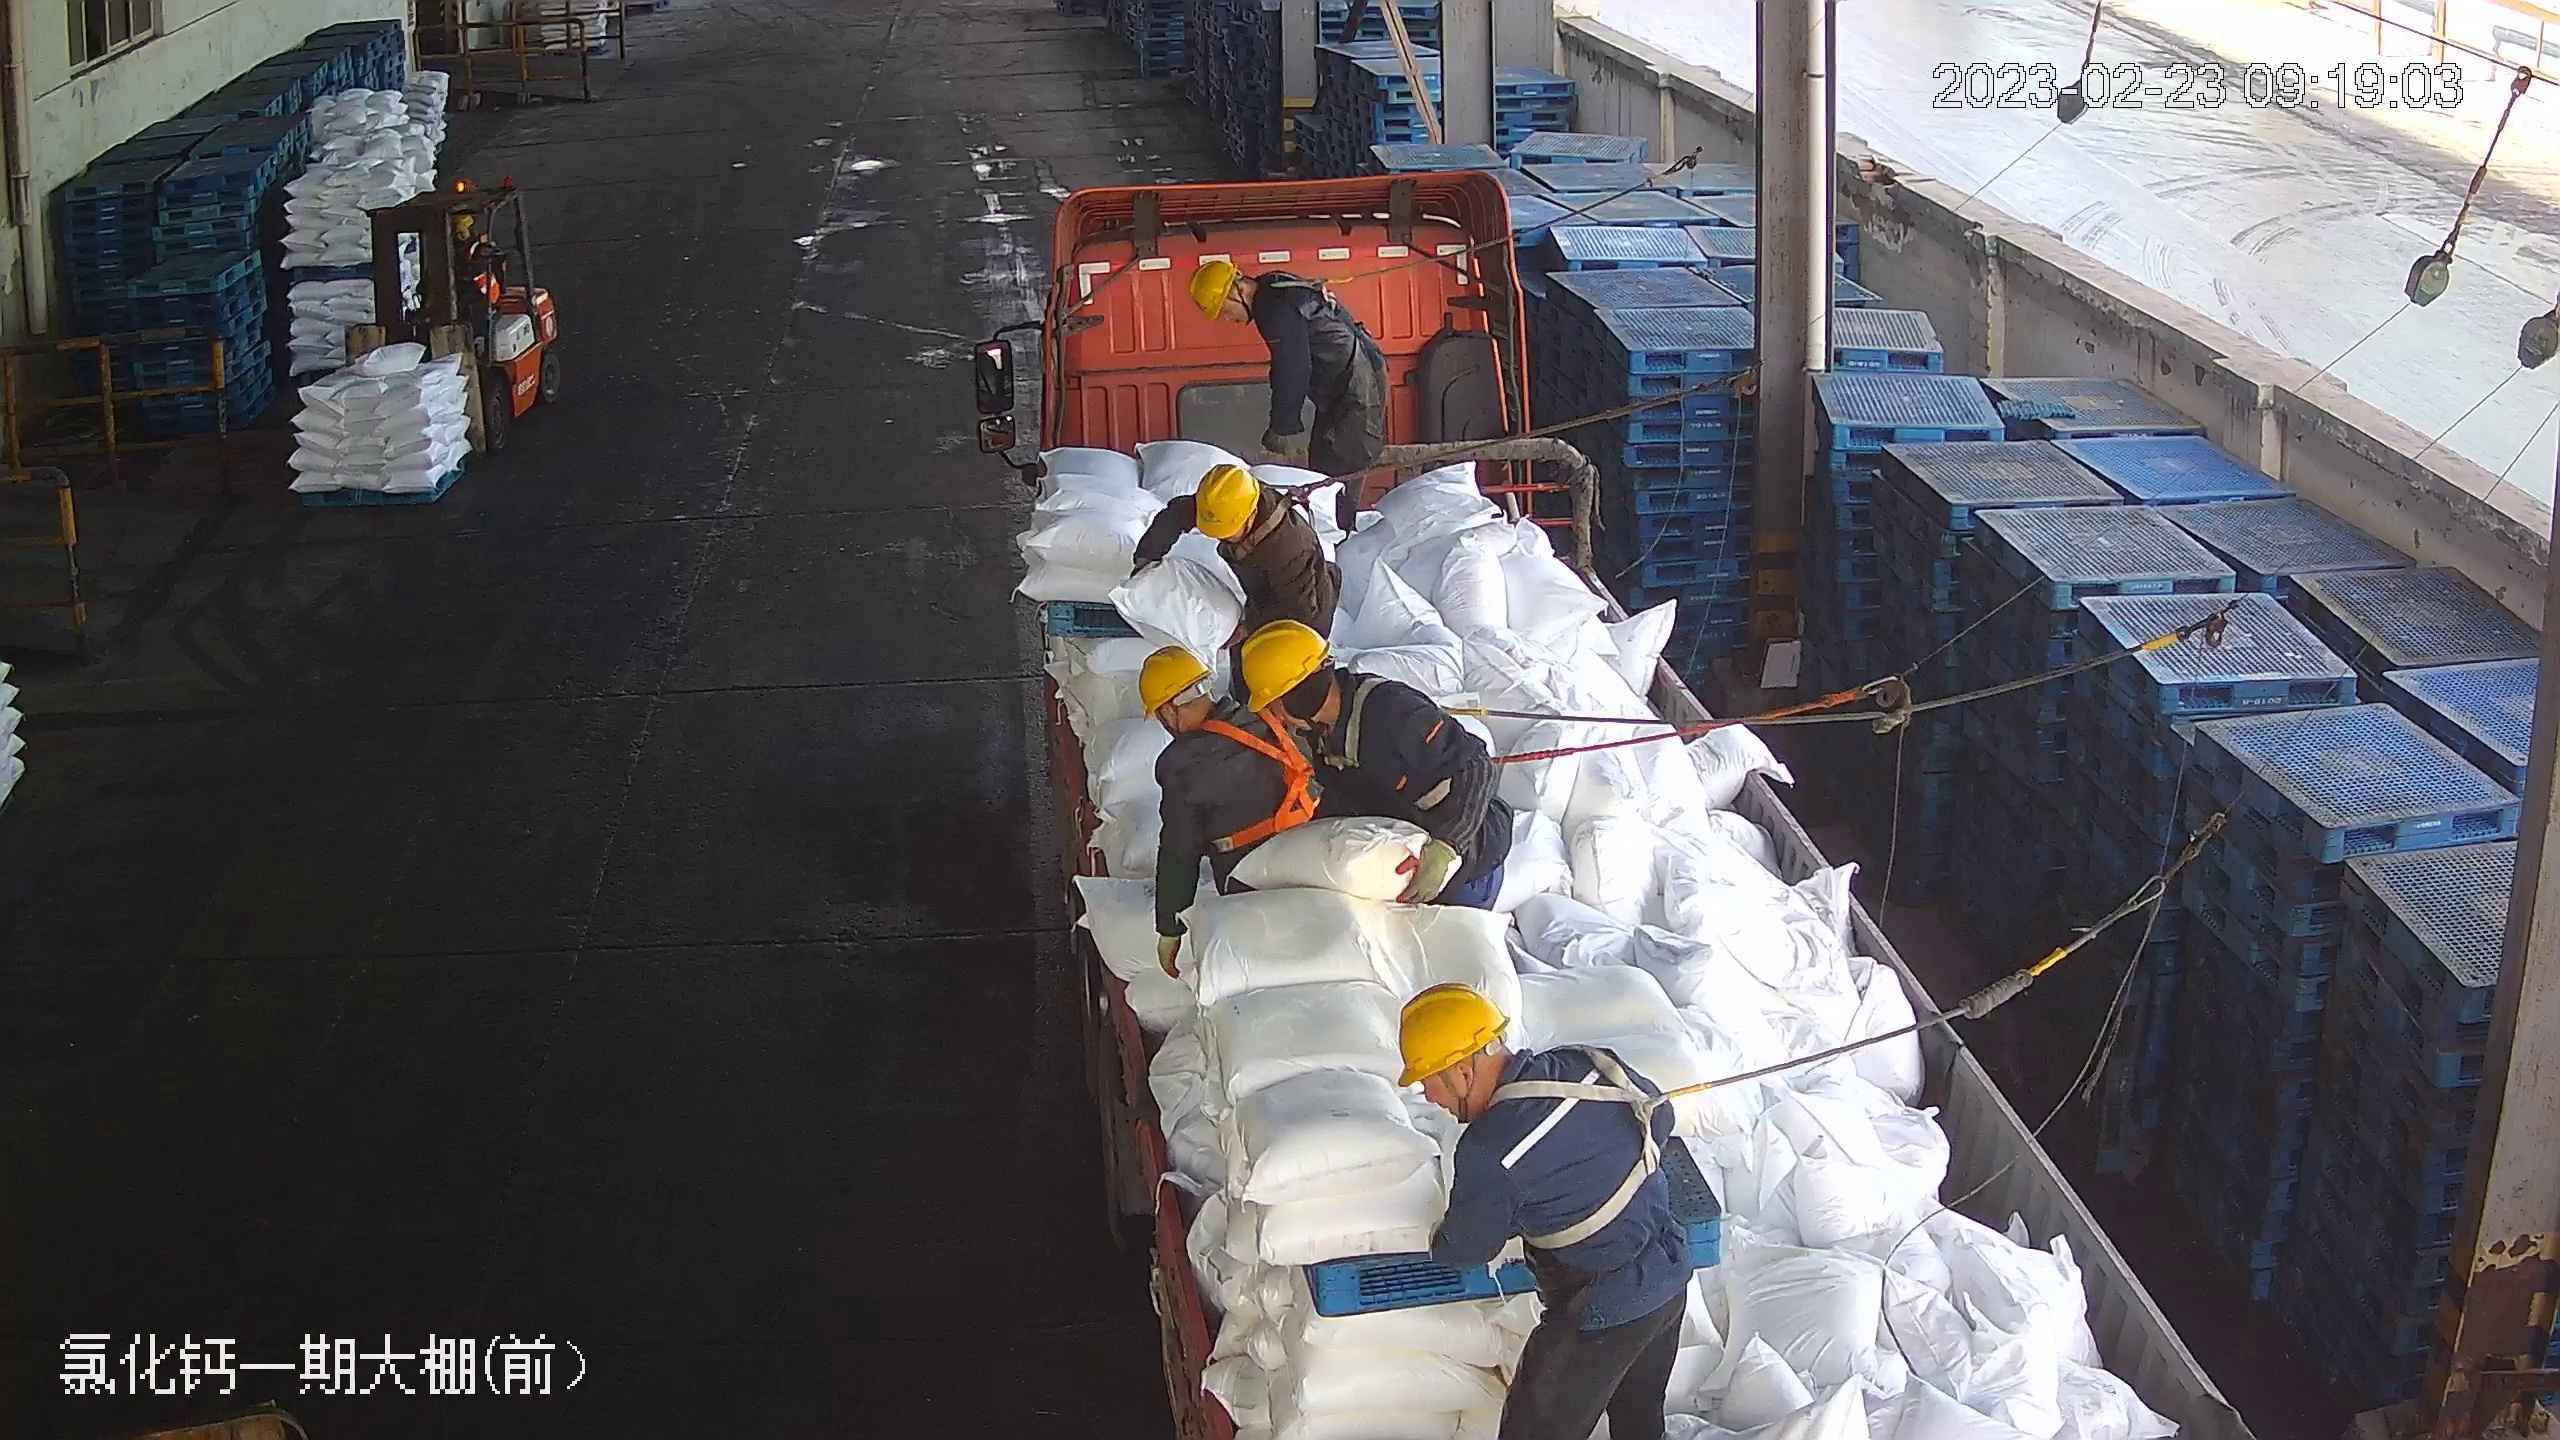belt: (1480, 1053, 1712, 1245), (1321, 684, 1510, 804), (1193, 710, 1328, 849), (1236, 474, 1340, 565), (1271, 266, 1353, 309)
head: (1403, 982, 1635, 1190), (1241, 618, 1423, 770), (1135, 643, 1283, 795), (1188, 462, 1323, 565), (1187, 258, 1324, 349)
helmet: (1397, 984, 1509, 1088), (1241, 618, 1330, 711), (1136, 646, 1213, 715), (1192, 463, 1259, 535), (1187, 256, 1239, 324)
people: (1407, 985, 1693, 1440), (1252, 621, 1518, 915), (1137, 640, 1325, 973), (1185, 257, 1384, 534), (1123, 461, 1340, 670)
truck: (976, 161, 2263, 1430)
